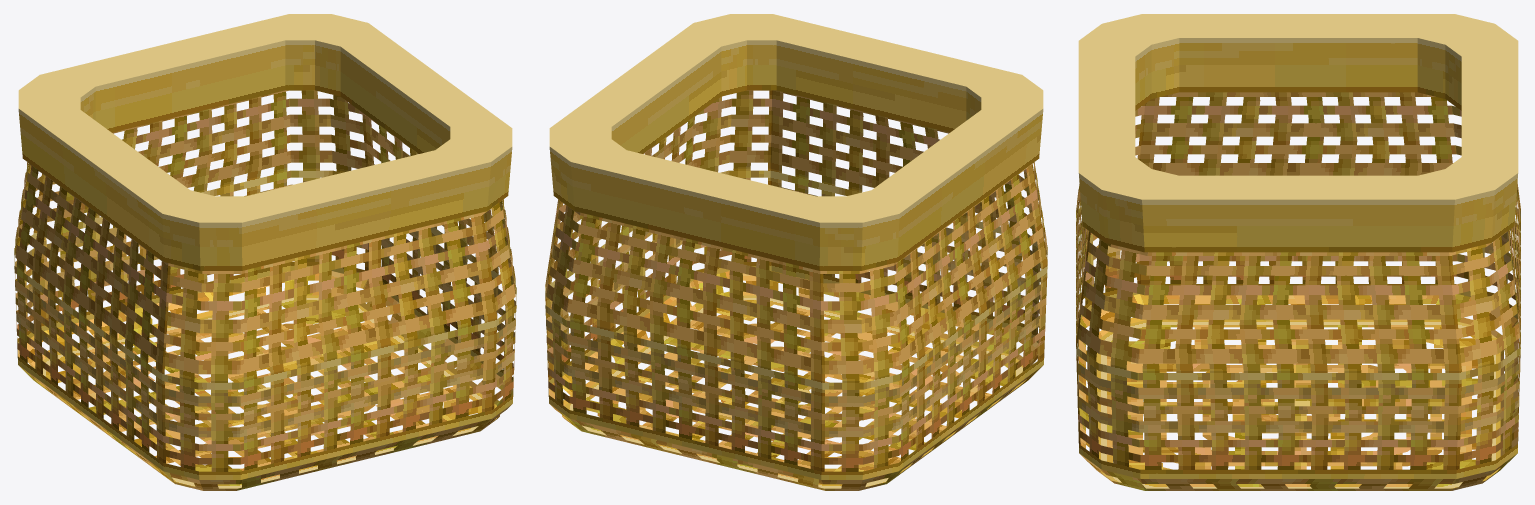
Rendered from basket.dae.
3 renders of one model, left to right at view 1: azimuth 30°, elevation 25°; view 2: azimuth 150°, elevation 25°; view 3: azimuth 270°, elevation 25°, orthographic. The views are drawn at different scales.
Parts seen in each view (by area): view 1: m0; view 2: m0; view 3: m0.
Part boxes in pixels (x1,y1,x2,y2): m0: [14, 14, 516, 490]; m0: [545, 14, 1047, 490]; m0: [1076, 14, 1520, 490].
Size of the model in its own units: 226 by 167 by 226.
Materials: 1 (1 with a texture image).
